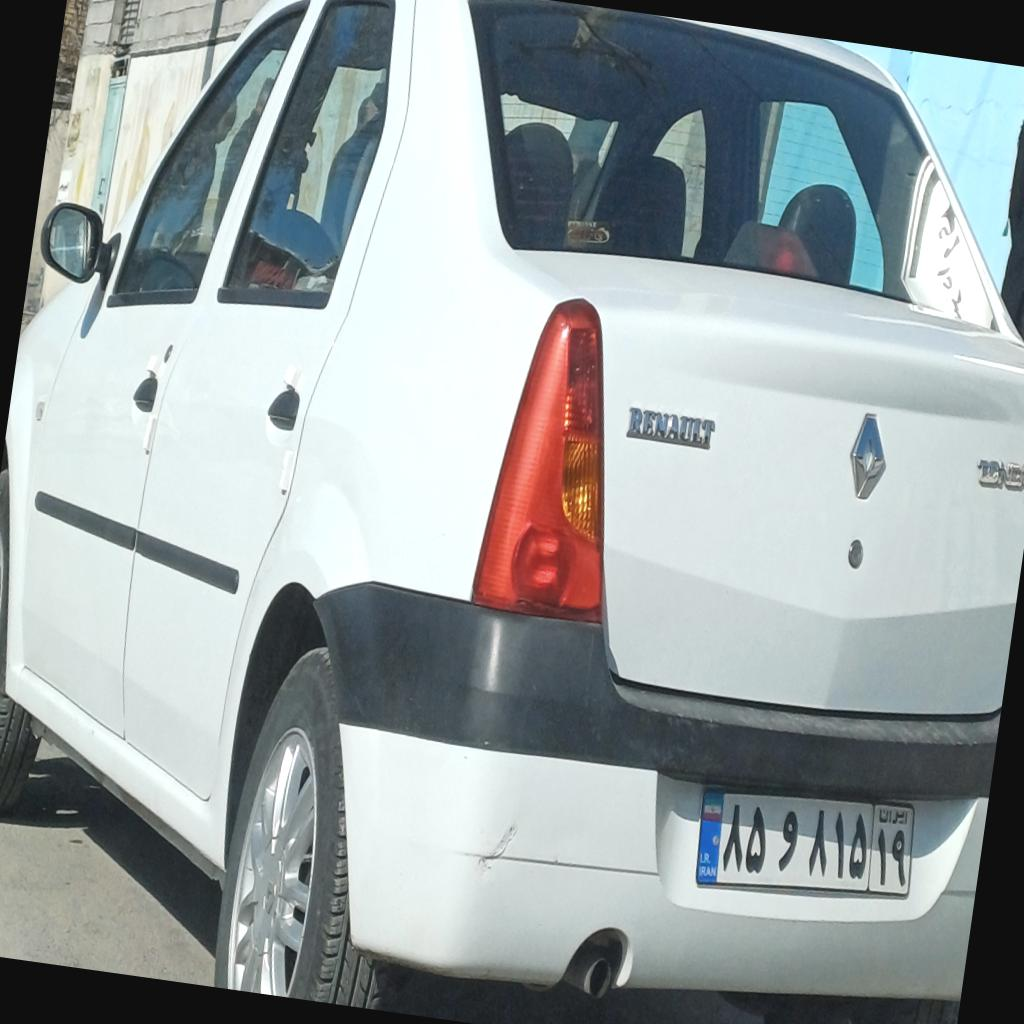Plates: (690, 774, 922, 914)
